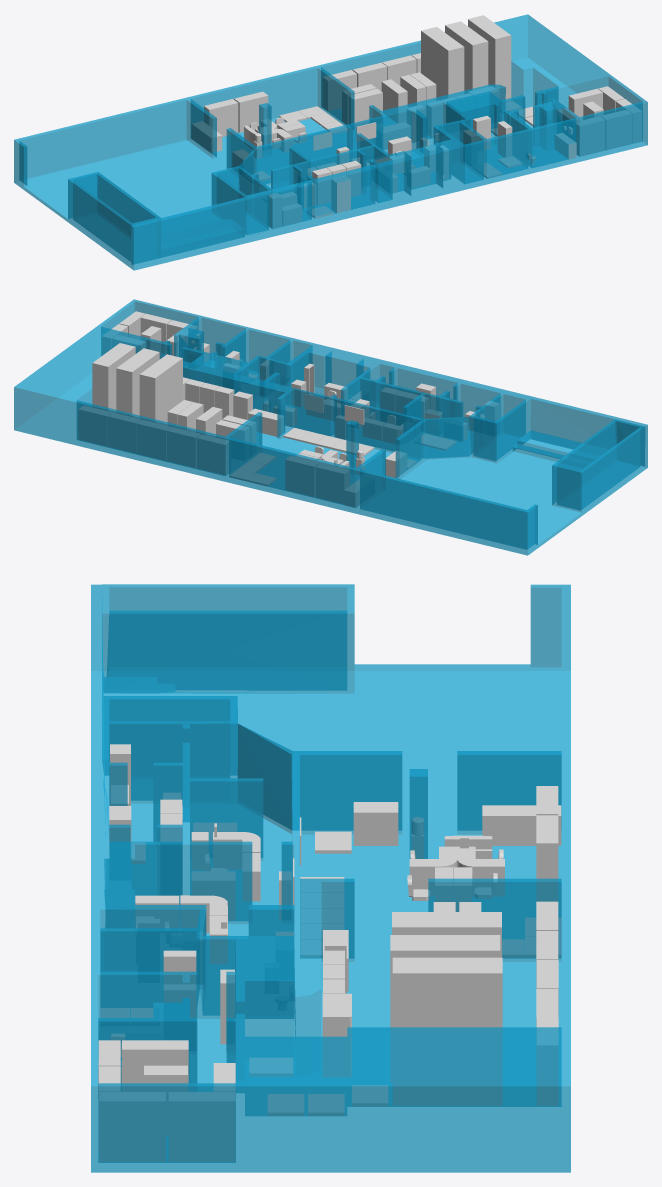
Rendered from relaciones.glb.
The picture shows the model from 3 angles, top to bottom: view 1: azimuth 30°, elevation 25°; view 2: azimuth 150°, elevation 25°; view 3: azimuth 270°, elevation 25°; orthographic projection. The views are drawn at different scales.
Parts seen in each view (by area): view 1: edificio, E13, E15, E14, E1, E9, R6, R5, E2, E3, E10, M1 (+18 smaller); view 2: edificio, E13, E15, E14, E3, E2, E1, E4, E5, E7, E6, C2 (+11 smaller); view 3: edificio, E15, R4, R3, E14, M3, E13, R1, R7, M1, C1, E2 (+13 smaller).
Part boxes in pixels (left/top/right/bottom): edificio: left=14, top=14, right=647, bottom=270; E13: left=421, top=27, right=464, bottom=100; E15: left=468, top=15, right=511, bottom=101; E14: left=445, top=21, right=488, bottom=93; E1: left=204, top=99, right=238, bottom=136; E9: left=349, top=88, right=382, bottom=129; R6: left=576, top=116, right=604, bottom=156; R5: left=601, top=110, right=631, bottom=149; E2: left=234, top=91, right=268, bottom=132; E3: left=323, top=70, right=356, bottom=110; E10: left=381, top=79, right=407, bottom=123; M1: left=191, top=121, right=222, bottom=152; edificio: left=14, top=299, right=647, bottom=555; E13: left=139, top=354, right=182, bottom=424; E15: left=92, top=343, right=135, bottom=412; E14: left=116, top=348, right=159, bottom=418; E3: left=197, top=434, right=228, bottom=474; E2: left=285, top=456, right=319, bottom=496; E1: left=316, top=463, right=349, bottom=503; E4: left=167, top=427, right=200, bottom=467; E5: left=137, top=420, right=170, bottom=460; E7: left=78, top=405, right=112, bottom=446; E6: left=108, top=412, right=141, bottom=453; C2: left=248, top=408, right=283, bottom=436; edificio: left=91, top=584, right=570, bottom=1172; E15: left=392, top=957, right=502, bottom=1105; R4: left=99, top=1092, right=165, bottom=1161; R3: left=169, top=1092, right=235, bottom=1161; E14: left=390, top=935, right=500, bottom=1082; M3: left=409, top=846, right=504, bottom=896; E13: left=392, top=912, right=501, bottom=957; R1: left=322, top=993, right=351, bottom=1077; R7: left=122, top=1040, right=188, bottom=1091; M1: left=482, top=805, right=561, bottom=845; C1: left=353, top=802, right=398, bottom=845; E2: left=536, top=815, right=558, bottom=901.
Size of the model in its own units: 32.4 by 4.2 by 13.1.
